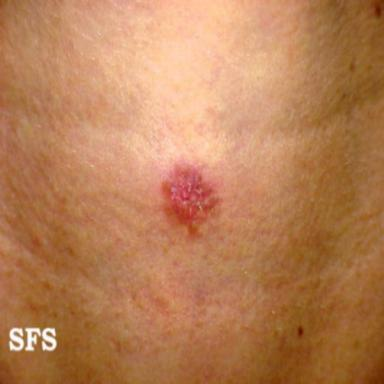basal-cell-carcinoma: (158, 158, 222, 241)
